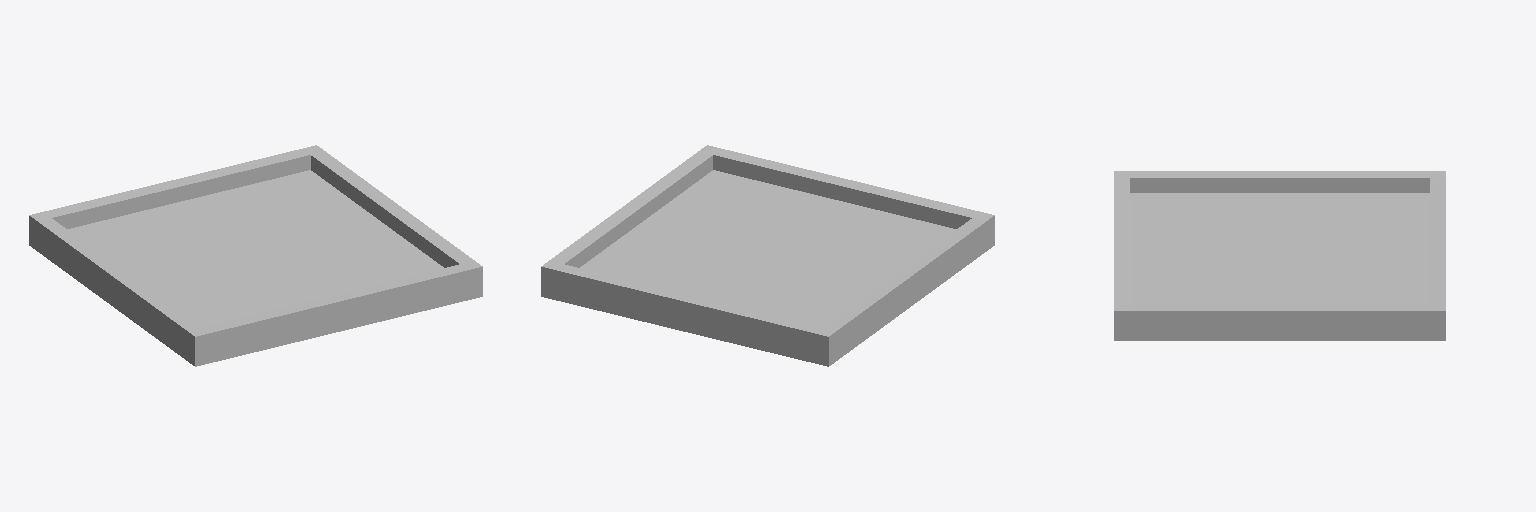
The model's file is board.obj.
3 views of the same model, side by side, from view 1: azimuth 30°, elevation 25°; view 2: azimuth 150°, elevation 25°; view 3: azimuth 270°, elevation 25° (orthographic).
Visible parts, largest first — view 1: Cube; view 2: Cube; view 3: Cube.
Boxes of the visible parts, x1,y1,x2,y2 form: Cube: [29, 145, 482, 366]; Cube: [541, 145, 994, 366]; Cube: [1114, 171, 1445, 340].
Size of the model in its own units: 2 by 0.2 by 2.